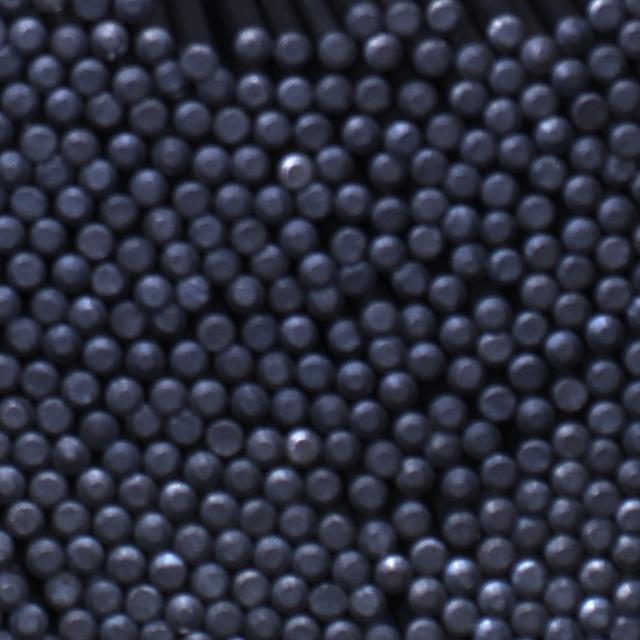tool: (82, 332, 124, 373), (80, 408, 121, 448), (411, 36, 452, 76), (23, 537, 63, 577), (90, 20, 130, 60), (364, 32, 404, 72), (341, 113, 381, 153), (152, 135, 192, 175), (348, 398, 388, 438), (106, 543, 147, 582), (77, 466, 118, 505), (106, 130, 147, 169), (172, 97, 213, 136), (165, 593, 204, 633), (150, 549, 190, 588), (230, 142, 269, 182), (93, 503, 133, 542), (201, 488, 240, 528), (129, 95, 169, 134), (278, 216, 318, 255), (111, 61, 151, 100), (51, 253, 91, 292), (193, 141, 232, 181), (160, 478, 199, 518), (285, 426, 324, 466), (318, 32, 359, 70), (126, 338, 167, 376), (11, 428, 50, 467), (104, 373, 143, 412), (256, 184, 295, 223), (265, 465, 304, 504), (216, 529, 255, 568), (135, 513, 174, 552), (174, 521, 213, 560), (338, 359, 377, 398), (53, 432, 92, 471), (22, 358, 60, 398), (18, 122, 58, 160), (67, 534, 107, 572), (196, 311, 236, 349), (6, 250, 46, 288), (172, 178, 212, 216), (508, 352, 548, 390), (29, 468, 69, 506), (256, 534, 294, 574), (169, 339, 209, 377), (185, 449, 225, 487), (333, 549, 373, 587), (142, 204, 182, 242), (232, 381, 272, 419), (544, 330, 584, 368), (69, 294, 109, 332), (44, 86, 84, 124), (486, 10, 524, 50), (134, 23, 174, 61), (396, 458, 436, 496), (397, 79, 438, 116), (60, 126, 101, 163), (117, 234, 158, 271), (71, 56, 110, 94), (191, 376, 230, 414), (297, 352, 336, 390), (571, 91, 610, 129), (10, 14, 49, 52), (310, 580, 349, 618), (109, 299, 148, 337), (348, 472, 387, 510), (255, 108, 294, 146), (214, 180, 253, 218), (226, 457, 264, 496), (408, 339, 446, 378), (325, 429, 363, 468), (520, 31, 558, 70), (153, 58, 191, 97), (61, 369, 101, 406), (292, 112, 332, 149), (35, 154, 75, 191), (129, 166, 169, 203), (55, 186, 95, 223), (314, 145, 354, 182), (271, 571, 308, 611), (44, 322, 84, 359), (50, 22, 90, 59), (252, 244, 292, 281), (596, 194, 636, 231), (233, 568, 271, 606), (206, 418, 244, 456), (275, 150, 313, 188), (46, 570, 84, 608), (207, 598, 245, 636), (314, 74, 352, 112), (353, 75, 391, 113), (144, 439, 182, 477), (246, 425, 284, 463), (392, 500, 430, 538), (306, 466, 344, 504), (1, 81, 39, 119), (294, 541, 332, 579), (272, 387, 310, 425), (4, 315, 42, 353), (77, 221, 116, 258), (29, 217, 68, 254), (379, 370, 418, 407), (52, 499, 91, 536), (227, 273, 266, 310), (99, 192, 139, 228), (516, 192, 556, 228), (278, 314, 318, 350), (102, 440, 142, 476), (426, 394, 466, 430), (542, 537, 584, 571), (126, 582, 164, 619), (478, 384, 516, 421), (215, 104, 252, 142), (373, 552, 410, 590), (193, 562, 231, 599), (462, 420, 499, 458), (409, 146, 447, 183), (552, 421, 590, 458), (583, 314, 621, 351), (259, 349, 297, 386), (448, 78, 486, 115), (424, 429, 462, 466), (334, 182, 371, 220), (518, 395, 556, 432), (134, 272, 173, 308), (149, 376, 188, 412), (383, 118, 422, 154), (9, 602, 48, 638), (87, 91, 126, 127), (120, 472, 159, 508), (161, 241, 200, 277), (178, 40, 217, 76), (576, 596, 612, 635), (575, 558, 614, 594), (214, 344, 254, 379), (320, 511, 357, 548), (331, 225, 368, 262), (431, 272, 468, 309), (314, 394, 351, 431), (562, 172, 599, 209), (36, 397, 74, 433), (165, 408, 203, 444), (240, 498, 278, 534), (344, 0, 382, 36), (30, 287, 68, 323), (296, 182, 334, 218), (441, 598, 477, 636), (462, 127, 498, 165), (359, 518, 397, 554), (394, 410, 430, 448), (27, 53, 65, 89), (235, 72, 273, 108), (477, 534, 515, 570), (556, 253, 594, 289), (496, 132, 534, 168), (443, 509, 481, 545), (368, 151, 406, 187), (478, 495, 516, 531), (198, 68, 236, 104), (511, 556, 547, 594), (7, 499, 46, 534), (444, 554, 479, 593), (80, 158, 120, 192), (604, 148, 638, 188), (368, 233, 404, 270), (0, 394, 36, 431), (230, 216, 267, 252), (425, 113, 462, 149), (275, 74, 312, 110), (366, 438, 402, 475), (242, 314, 278, 351), (280, 501, 317, 537), (444, 162, 481, 198), (512, 601, 548, 638), (440, 313, 476, 350), (328, 318, 364, 355), (12, 184, 50, 219), (86, 578, 124, 613), (523, 80, 561, 115), (126, 404, 164, 439), (484, 99, 522, 134), (550, 57, 588, 92), (274, 29, 312, 64), (339, 260, 377, 295), (474, 292, 512, 327), (478, 578, 513, 616), (189, 214, 228, 248), (350, 582, 386, 618), (488, 245, 524, 281), (588, 43, 624, 79), (451, 243, 487, 279), (488, 57, 524, 93), (536, 115, 572, 151), (454, 41, 490, 77), (554, 14, 590, 50), (529, 155, 566, 190), (246, 606, 284, 640), (392, 262, 430, 296), (439, 466, 477, 500), (203, 248, 241, 282), (371, 196, 409, 230), (176, 273, 212, 308), (482, 169, 518, 204), (594, 275, 630, 310), (269, 276, 305, 311), (520, 271, 556, 306), (481, 452, 516, 488), (92, 262, 128, 297), (480, 206, 515, 242), (550, 376, 587, 410), (447, 355, 484, 389), (411, 538, 448, 572), (296, 252, 333, 286), (369, 334, 406, 368), (153, 302, 190, 336), (0, 148, 34, 185), (410, 186, 448, 219), (60, 608, 99, 640), (512, 308, 547, 343), (408, 224, 443, 259), (443, 204, 478, 239), (401, 302, 436, 337), (384, 0, 420, 34), (554, 290, 590, 324), (584, 357, 620, 391), (516, 438, 552, 472), (552, 461, 588, 495), (234, 29, 270, 63), (362, 300, 399, 333), (608, 78, 640, 116), (562, 214, 597, 248), (570, 134, 604, 169), (544, 576, 578, 611), (588, 401, 624, 434), (612, 526, 640, 568), (426, 0, 466, 29), (596, 234, 630, 268), (526, 231, 561, 264), (113, 0, 163, 23), (516, 478, 550, 511), (283, 613, 323, 640), (100, 613, 139, 640), (586, 436, 618, 468), (409, 578, 442, 609), (610, 120, 640, 154), (591, 0, 621, 34), (0, 464, 26, 503), (0, 572, 28, 608), (0, 214, 26, 252), (472, 615, 511, 640), (518, 522, 548, 554), (543, 615, 581, 640), (0, 46, 25, 84), (404, 617, 444, 640), (0, 283, 22, 323), (0, 351, 22, 390), (326, 618, 365, 640), (615, 496, 640, 530), (617, 455, 640, 491), (619, 18, 640, 57), (591, 476, 612, 515), (615, 580, 640, 610), (71, 0, 112, 18), (586, 522, 610, 552), (612, 615, 640, 640), (140, 620, 174, 640), (0, 110, 16, 152), (364, 622, 401, 640), (554, 500, 576, 528), (0, 527, 15, 568), (623, 420, 640, 456), (623, 379, 640, 414), (625, 336, 640, 375), (30, 1, 72, 12), (0, 423, 12, 461), (179, 629, 219, 640), (0, 0, 31, 12), (0, 8, 8, 52), (31, 633, 68, 640), (0, 630, 22, 640)
